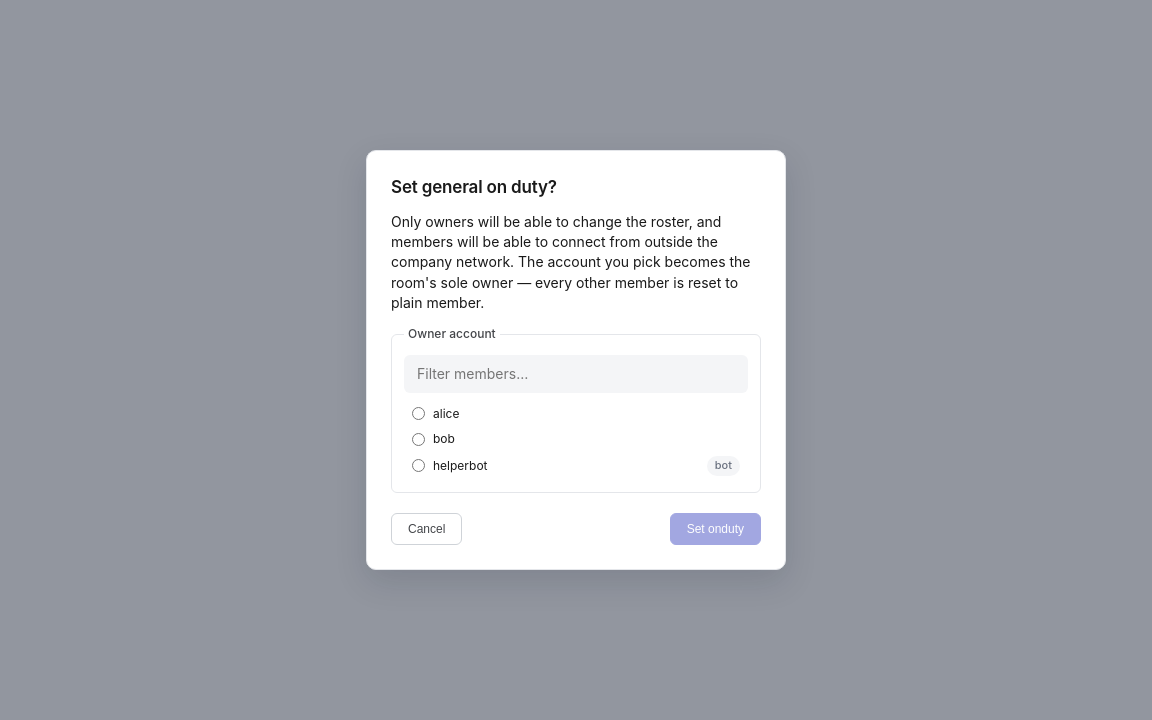
Scenario: SetOnDutyDialog › says so when nothing matches the filter
This screenshot has width=1152, height=720.
Type "zzz" into the field labelled "Filter members…" at (576,374), box [404,355,748,393]
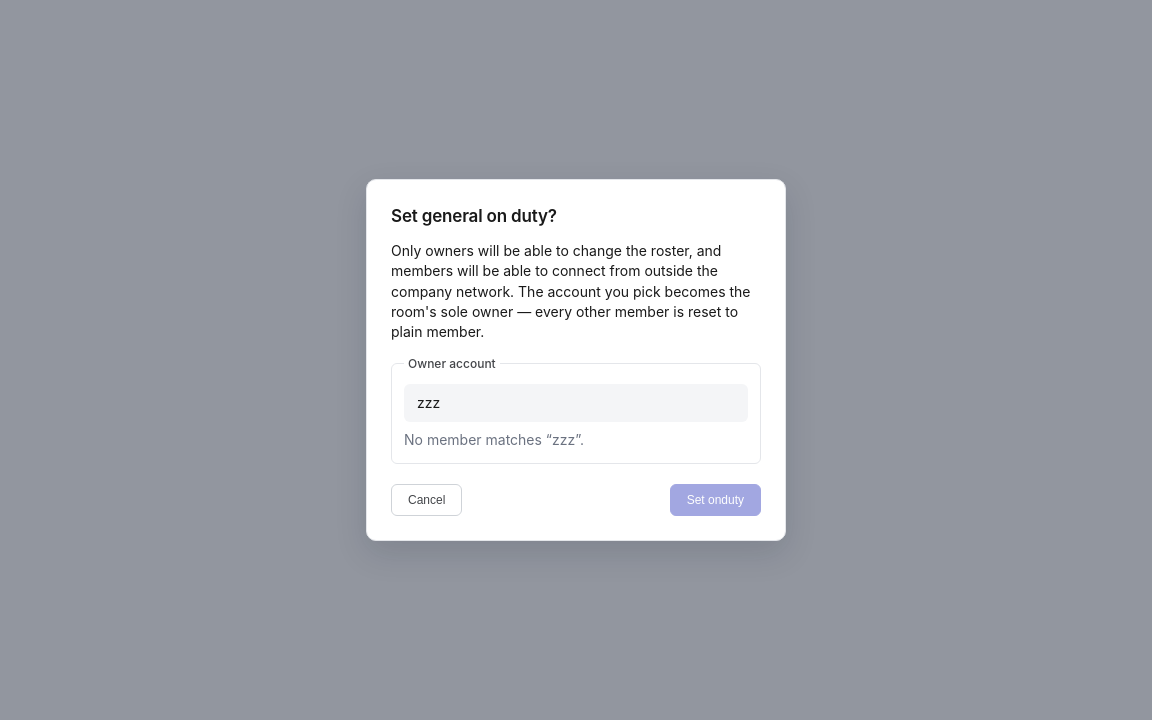
Expected: the text "No member matches “zzz”." is shown, [404,431,584,448]
Expected: the radio button is gone
